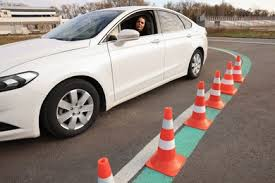car: (1, 5, 208, 139)
cone: (146, 105, 188, 179), (185, 81, 214, 132), (206, 71, 228, 110), (220, 61, 238, 96), (95, 157, 117, 183), (232, 56, 245, 83)
